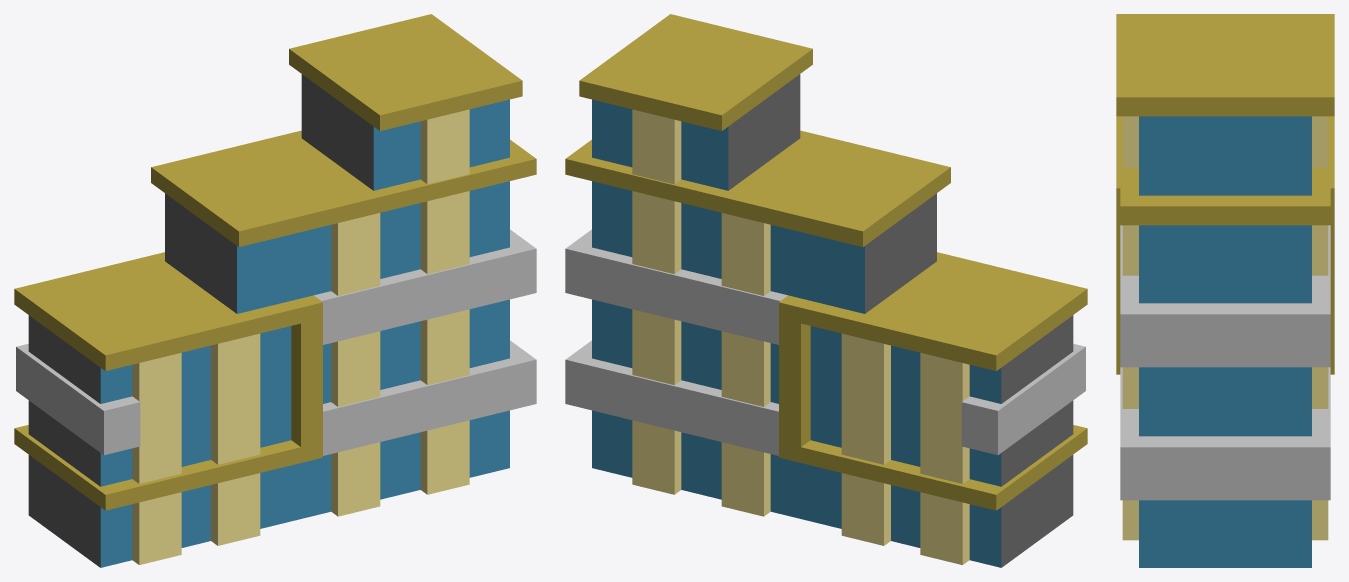
The model's file is bld_1.fbx.
The picture shows the model from 3 angles, left to right: view 1: azimuth 30°, elevation 25°; view 2: azimuth 150°, elevation 25°; view 3: azimuth 270°, elevation 25°; orthographic projection. The views are drawn at different scales.
Parts seen in each view (by area): view 1: Cube.034; view 2: Cube.034; view 3: Cube.034.
Part boxes in pixels (x1=…): Cube.034: x1=14, y1=14, x2=536, y2=567; Cube.034: x1=565, y1=14, x2=1087, y2=567; Cube.034: x1=1116, y1=14, x2=1334, y2=567.
Size of the model in its own units: 1246 by 1084 by 454.
